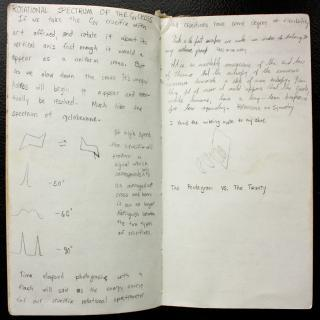book: (16, 0, 318, 301)
